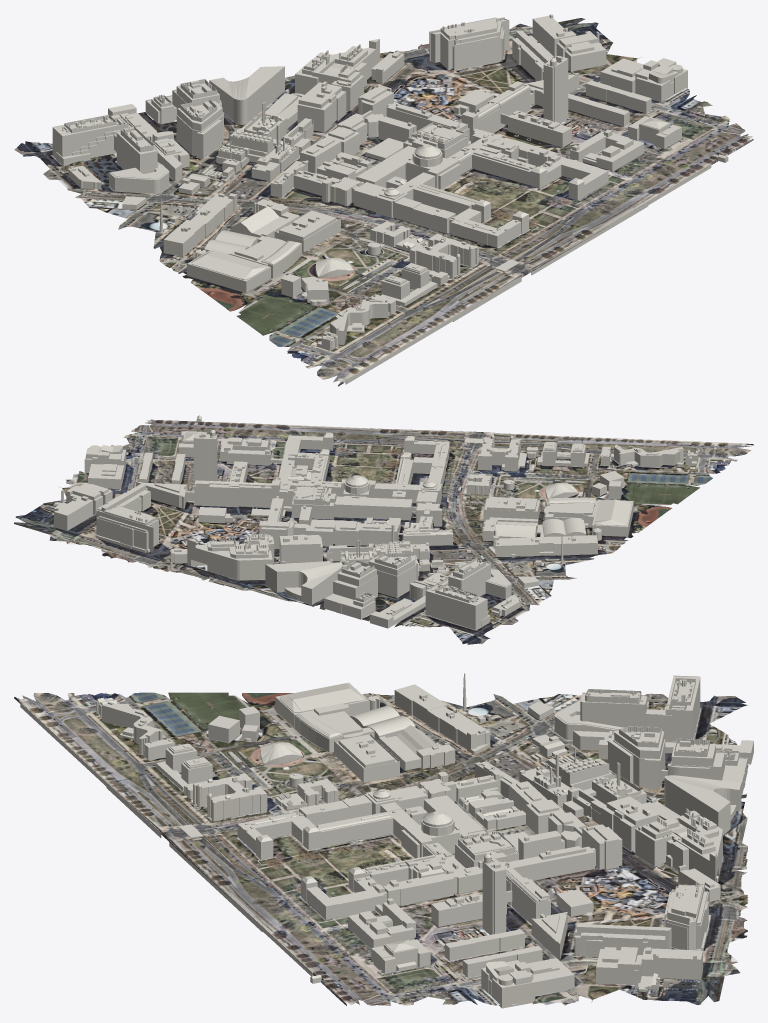
The model's file is campus-without-stata.glb.
3 views of the same model, one above another, from view 1: azimuth 30°, elevation 25°; view 2: azimuth 150°, elevation 25°; view 3: azimuth 270°, elevation 25° (orthographic). The views are drawn at different scales.
Bounding box in the file's own units: 842 × 102 × 840.
Materials: 2 (1 with a texture image).
